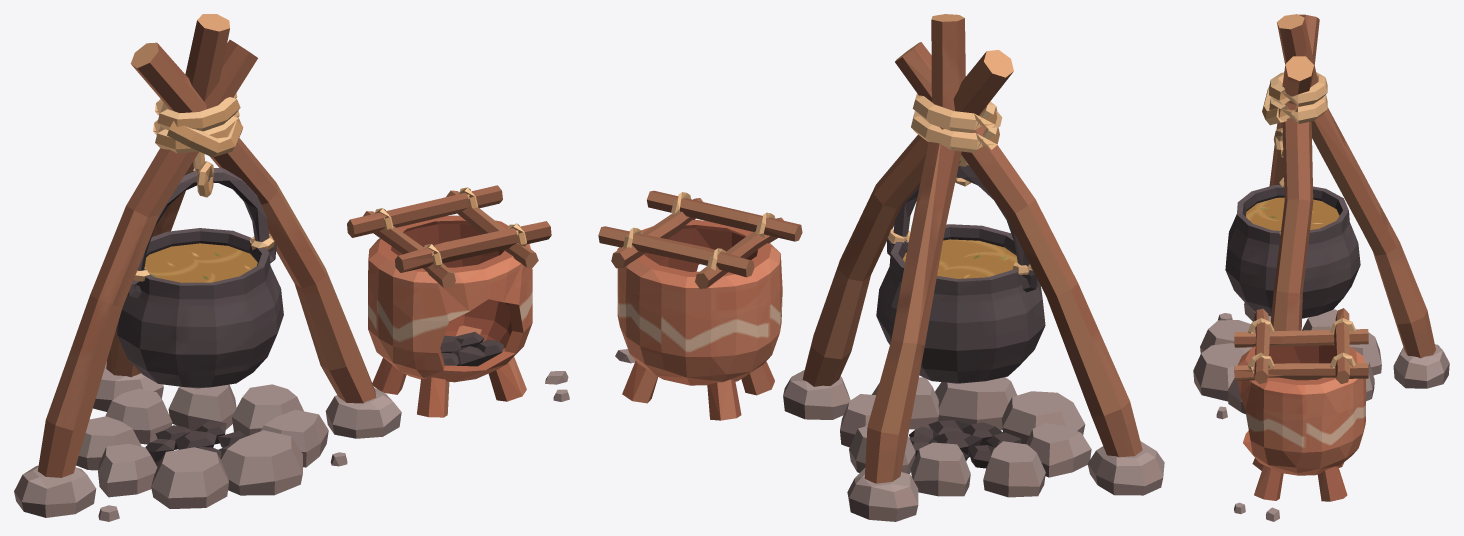
The model's file is Prehistoric_Cauldron_and_Brazier_Set.glb.
3 renders of one model, left to right at view 1: azimuth 30°, elevation 25°; view 2: azimuth 150°, elevation 25°; view 3: azimuth 270°, elevation 25°, orthographic. The views are drawn at different scales.
Visible parts, largest first — view 1: Prehistoric Cauldron and Brazier Set; view 2: Prehistoric Cauldron and Brazier Set; view 3: Prehistoric Cauldron and Brazier Set.
Boxes of the visible parts, x1,y1,x2,y2 form: Prehistoric Cauldron and Brazier Set: (14,14,569,521); Prehistoric Cauldron and Brazier Set: (598,14,1164,521); Prehistoric Cauldron and Brazier Set: (1193,14,1449,521).
Size of the model in its own units: 5.18 by 3.95 by 2.51.
Materials: 2 (2 with a texture image).
